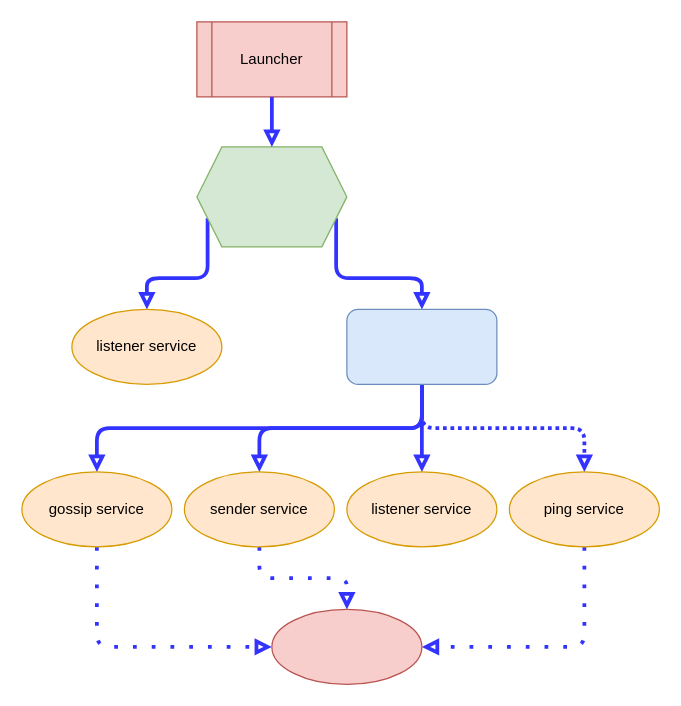
Some shapes in this 681 by 706 pixel diagram are drawn without their labels. The centre of each missing label's shape, as x and y in pixels:
Physical layer: (x=421, y=346)
postman: (x=346, y=646)
Virtual layer: (x=271, y=196)
